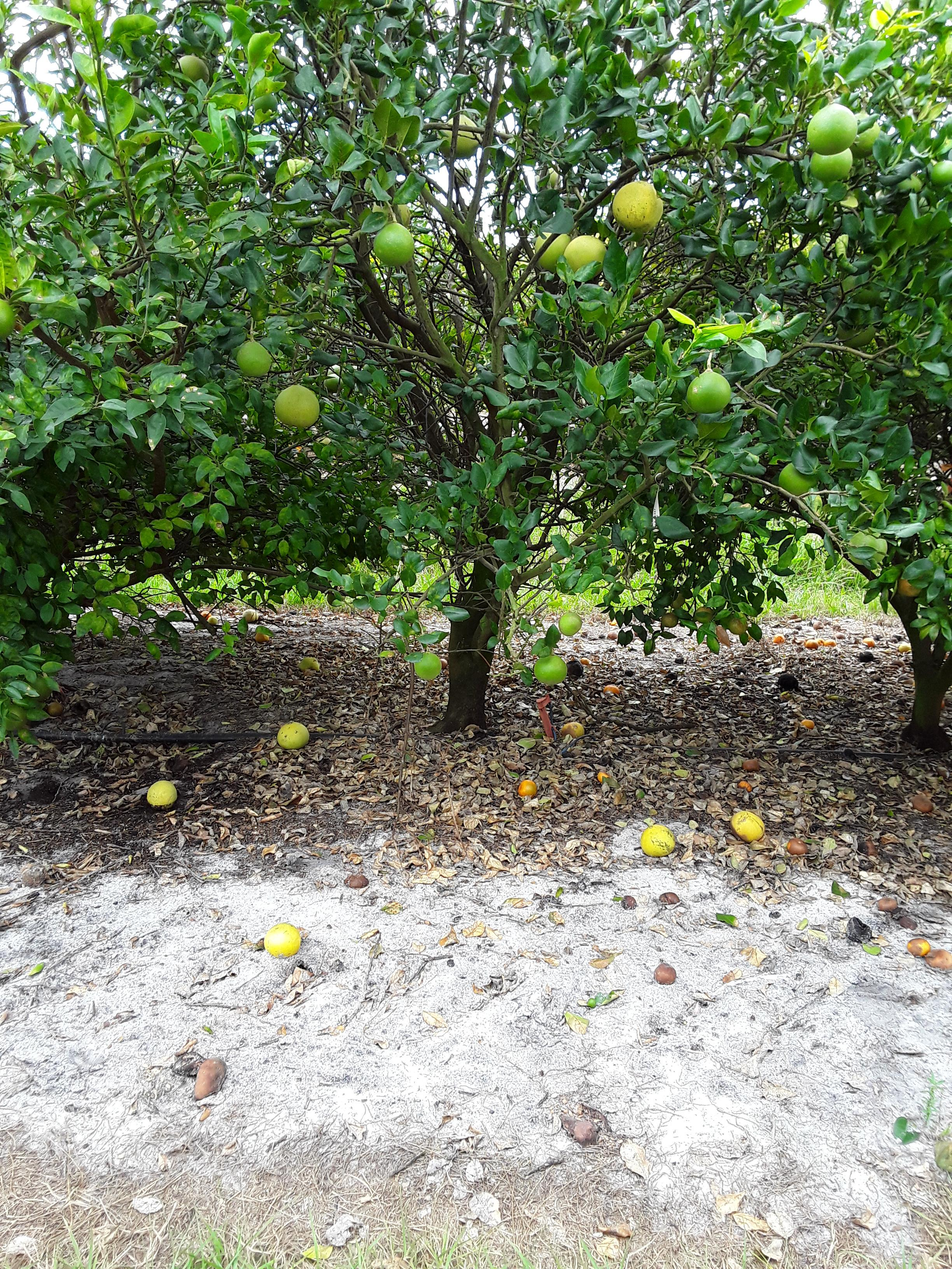fruit_on_ground: (612, 180, 664, 232), (806, 103, 857, 155), (276, 385, 320, 431), (686, 370, 731, 413), (564, 236, 607, 281), (373, 222, 414, 266), (440, 115, 481, 157), (536, 229, 571, 271), (778, 461, 817, 496), (849, 112, 880, 155), (809, 149, 852, 180), (847, 530, 887, 563), (372, 197, 412, 228), (173, 54, 209, 87), (236, 342, 271, 375), (838, 315, 875, 346), (535, 657, 567, 685), (536, 163, 562, 193), (415, 653, 441, 680), (273, 52, 294, 83), (0, 297, 14, 341), (876, 423, 901, 447), (2, 706, 25, 729), (901, 574, 922, 597), (558, 613, 581, 634), (931, 161, 952, 184), (899, 173, 922, 192), (728, 613, 747, 634), (322, 376, 343, 394), (642, 7, 659, 26), (942, 464, 952, 496), (695, 607, 715, 621), (327, 364, 346, 376), (662, 614, 679, 627)
fruit_on_tree: (194, 1058, 226, 1101), (266, 924, 302, 958), (639, 825, 676, 857), (731, 812, 764, 842), (277, 722, 310, 749), (146, 781, 177, 806), (171, 1051, 198, 1073), (928, 949, 952, 973), (571, 1120, 597, 1141), (654, 963, 677, 986), (344, 872, 370, 890), (907, 936, 929, 957), (910, 794, 935, 812), (561, 722, 583, 740), (517, 780, 537, 798), (779, 675, 799, 692), (300, 657, 321, 673), (659, 891, 681, 905), (876, 897, 899, 910), (568, 658, 583, 677), (620, 895, 635, 912), (860, 841, 877, 855), (789, 840, 807, 853), (46, 703, 65, 715), (243, 609, 260, 622), (938, 765, 952, 780), (603, 684, 621, 695), (738, 779, 753, 792), (255, 633, 271, 644), (745, 758, 759, 769), (603, 685, 620, 694), (800, 719, 815, 729), (860, 651, 872, 662), (596, 771, 609, 781), (805, 639, 817, 649), (772, 635, 785, 644), (899, 642, 909, 652), (208, 617, 219, 626), (607, 631, 618, 640), (864, 637, 875, 646), (441, 657, 449, 669), (825, 639, 835, 648), (201, 610, 211, 618), (813, 622, 823, 630), (837, 634, 847, 641), (818, 637, 823, 646), (942, 698, 945, 711)
